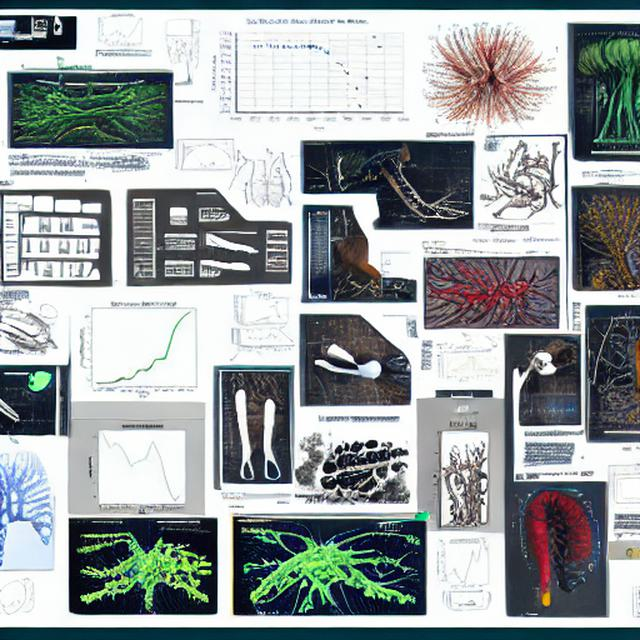Graph: (203, 12, 415, 136), (74, 296, 210, 398), (76, 418, 205, 515), (430, 537, 501, 590), (227, 321, 298, 363), (439, 352, 496, 388), (96, 10, 147, 48), (531, 390, 581, 426)
